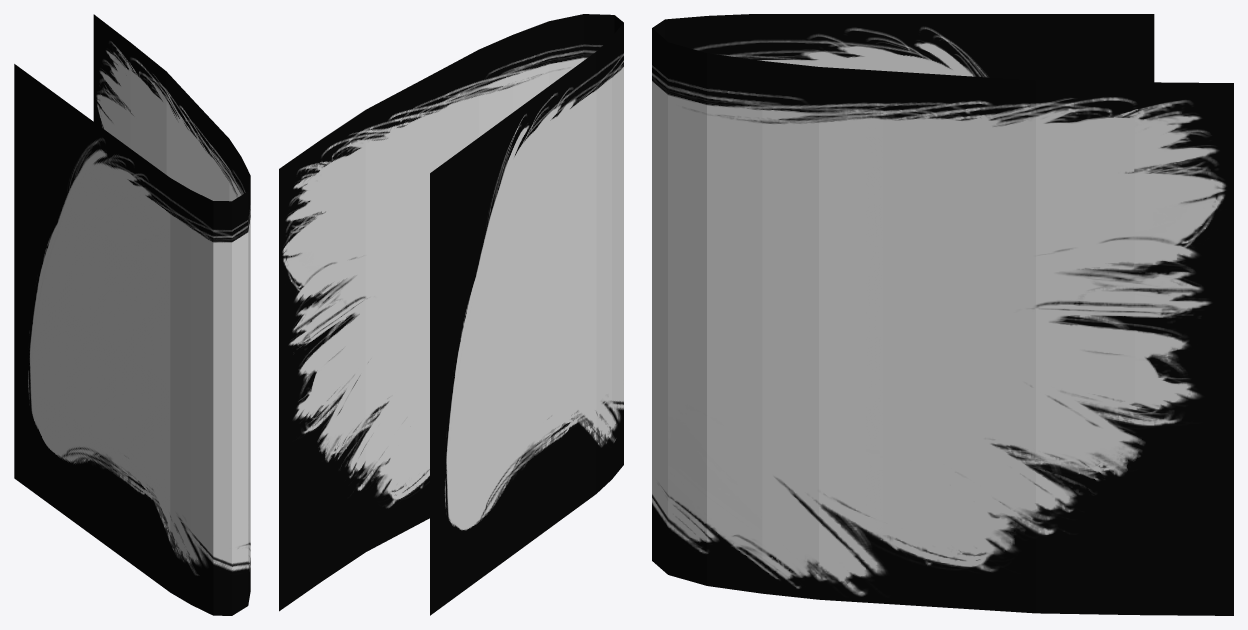
File: Wing.fbx
3 views of the same model, side by side, from view 1: azimuth 30°, elevation 25°; view 2: azimuth 150°, elevation 25°; view 3: azimuth 270°, elevation 25° (orthographic). The views are drawn at different scales.
Parts seen in each view (by area): view 1: Plane.001; view 2: Plane.001; view 3: Plane.001.
Boxes of the visible parts, x1,y1,x2,y2 form: Plane.001: (14, 14, 250, 615); Plane.001: (279, 14, 623, 615); Plane.001: (652, 14, 1233, 615).
Size of the model in its own units: 55.65 by 200 by 198.
